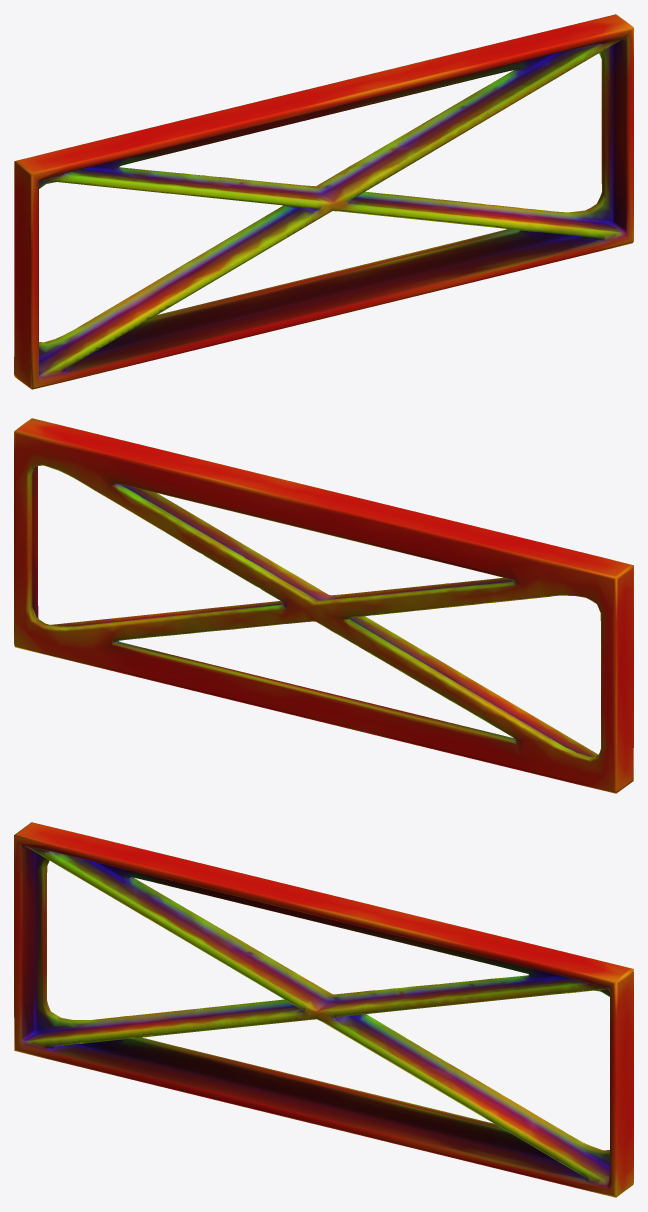
Rendered from FrameSide.fbx.
The picture shows the model from 3 angles, top to bottom: view 1: azimuth 30°, elevation 25°; view 2: azimuth 150°, elevation 25°; view 3: azimuth 330°, elevation 25°; orthographic projection.
Parts seen in each view (by area): view 1: transform1; view 2: transform1; view 3: transform1.
Boxes of the visible parts, x1,y1,x2,y2 form: transform1: [14, 14, 633, 389]; transform1: [14, 418, 633, 793]; transform1: [14, 822, 633, 1197].
Bounding box in the file's own units: 251 × 13.44 × 86.18.
